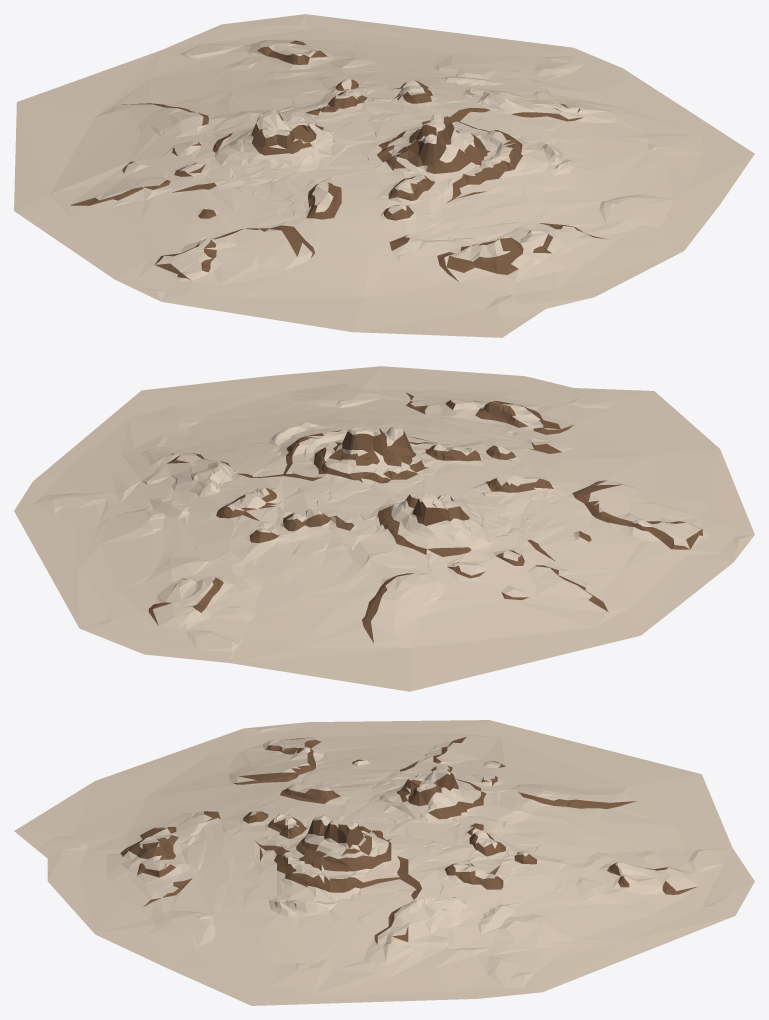
The model's file is Terrain_Flat_002.fbx.
3 views of the same model, one above another, from view 1: azimuth 30°, elevation 25°; view 2: azimuth 150°, elevation 25°; view 3: azimuth 270°, elevation 25° (orthographic). The views are drawn at different scales.
Visible parts, largest first — view 1: Terrain_Flat_002; view 2: Terrain_Flat_002; view 3: Terrain_Flat_002.
Part boxes in pixels (x1=…): Terrain_Flat_002: x1=14, y1=14, x2=754, y2=337; Terrain_Flat_002: x1=14, y1=366, x2=754, y2=691; Terrain_Flat_002: x1=14, y1=720, x2=754, y2=1005.
Size of the model in its own units: 108 by 10.79 by 119.
